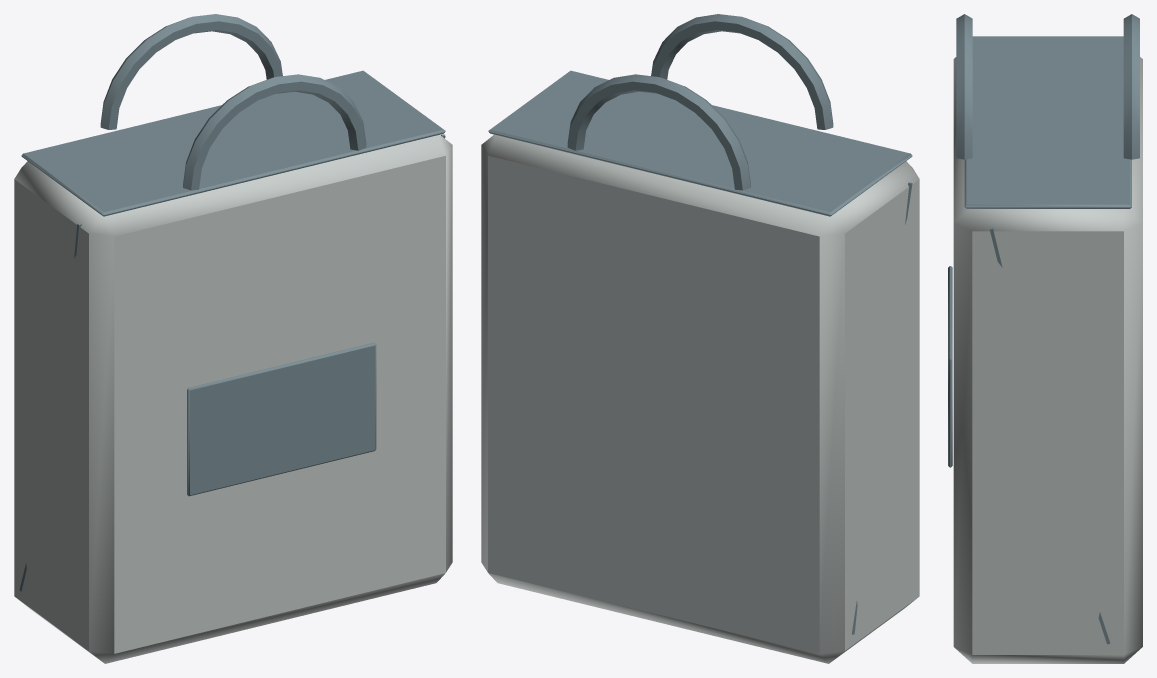
The model's file is shopping-bag.glb.
The picture shows the model from 3 angles, left to right: view 1: azimuth 30°, elevation 25°; view 2: azimuth 150°, elevation 25°; view 3: azimuth 270°, elevation 25°; orthographic projection.
Parts seen in each view (by area): view 1: folded_paper_body, bag_opening, blank_badge, paper_handle.001, paper_handle; view 2: folded_paper_body, bag_opening, paper_handle, paper_handle.001; view 3: folded_paper_body, bag_opening, paper_handle.001, paper_handle, blank_badge.
Part boxes in pixels (x1,y1,x2,y2): folded_paper_body: [14, 134, 452, 663]; bag_opening: [21, 70, 445, 216]; blank_badge: [187, 342, 376, 496]; paper_handle.001: [183, 74, 366, 190]; paper_handle: [100, 14, 282, 129]; folded_paper_body: [481, 134, 919, 663]; bag_opening: [488, 70, 912, 216]; paper_handle: [567, 74, 750, 190]; paper_handle.001: [651, 14, 833, 129]; folded_paper_body: [953, 57, 1142, 663]; bag_opening: [964, 36, 1131, 208]; paper_handle.001: [956, 14, 972, 159]; paper_handle: [1123, 14, 1139, 159]; blank_badge: [948, 266, 952, 467].
Size of the model in its own units: 0.2723 by 0.3896 by 0.1235.
